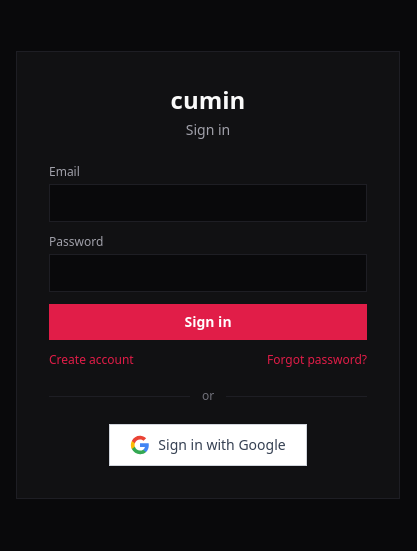
LoginPage › signs up then tells the user to check email
Step 1. Click the button "Create account" → (91, 360), box left=49, top=352, right=134, bottom=368
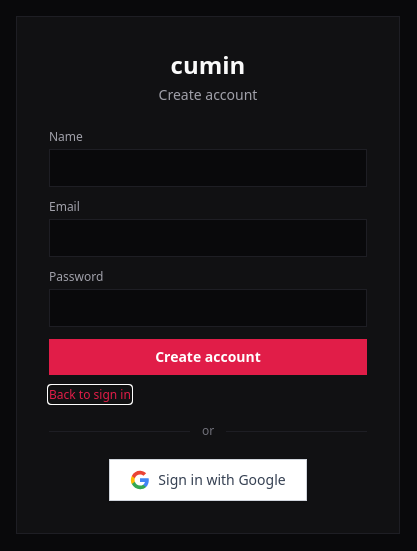
Step 2. Type "Ann" into the field labelled "Name" → (208, 168), box left=49, top=149, right=367, bottom=187
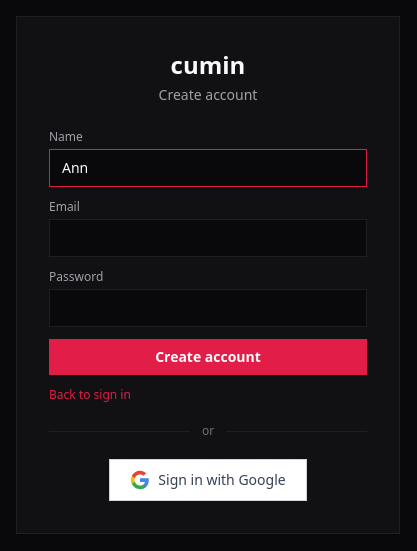
Step 3. Type "a@b.co" into the field labelled "Email" → (208, 238), box left=49, top=219, right=367, bottom=257
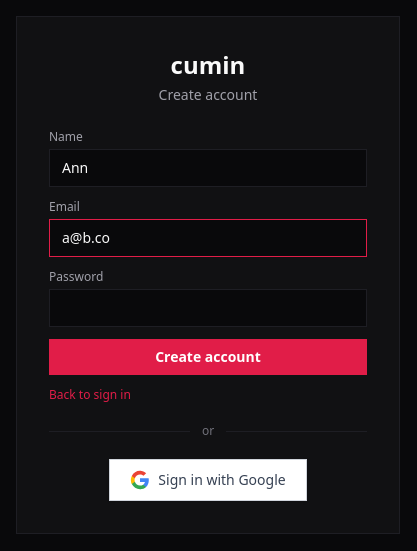
Step 4. Type "correct-horse" into the password field labelled "Password" → (208, 308), box left=49, top=289, right=367, bottom=327
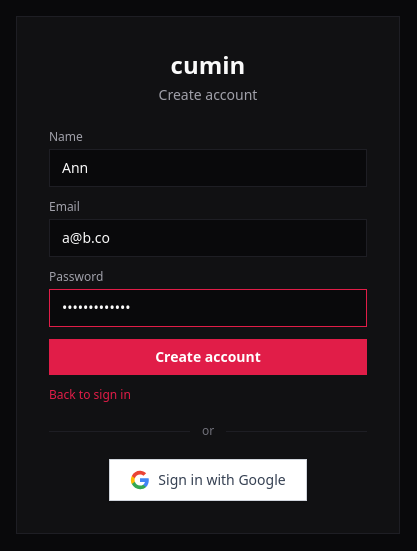
Step 5. Click the button "Create account" → (208, 357), box left=49, top=339, right=367, bottom=375
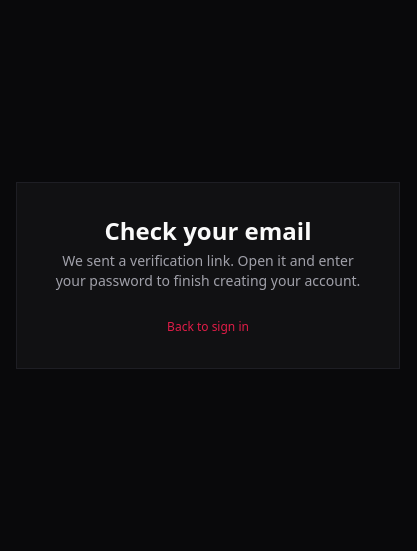
Now the heading "Check your email" is shown, box left=104, top=214, right=312, bottom=246
